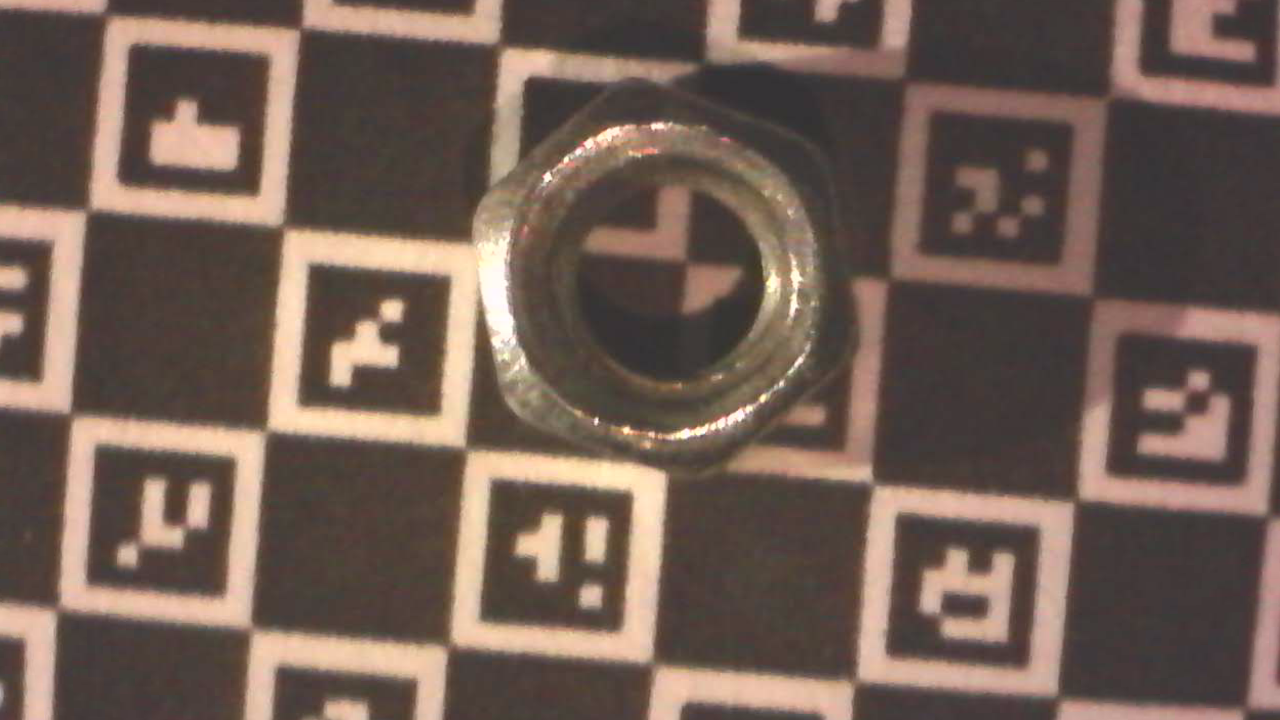Bolt: (467, 75, 866, 483)
